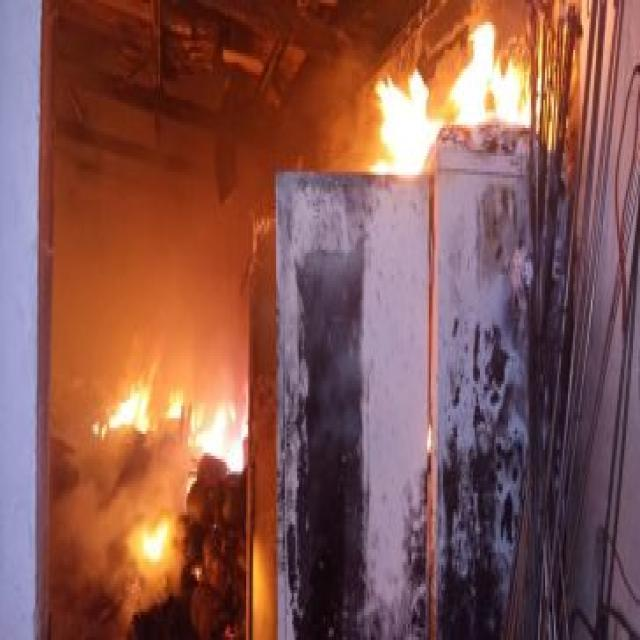Fire: (347, 9, 528, 184), (164, 384, 248, 481), (95, 356, 158, 440), (132, 515, 169, 565), (515, 57, 528, 110), (167, 400, 186, 428), (496, 82, 504, 110), (447, 82, 455, 96), (108, 413, 114, 430), (410, 62, 416, 76), (147, 380, 153, 391), (94, 432, 98, 446), (220, 398, 224, 408), (424, 85, 426, 101), (376, 74, 378, 86), (136, 528, 138, 532)
